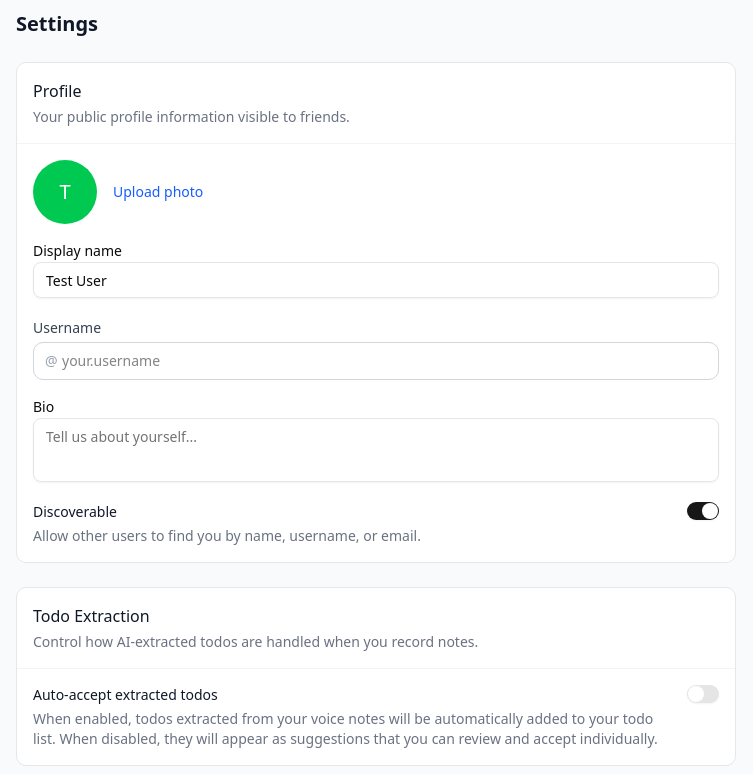
Test case: SettingsPage › shows save button only when changes exist
expect the text "Save changes" is not shown: met
Change the display name field
Replace the text in the field labelled "Display name" with "New Name" at (376, 280), box [33,262,719,298]
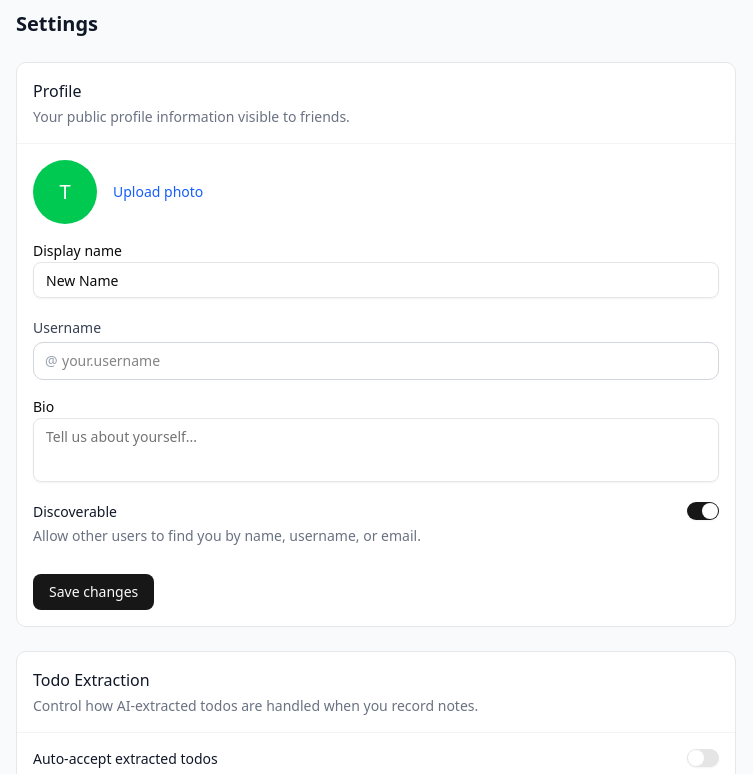
expect the button "Save changes" is shown: met, box [33,574,154,610]
